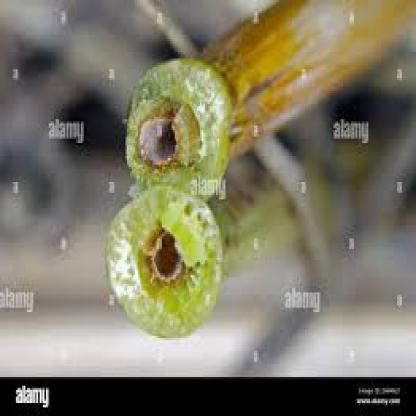sawfly: (104, 186, 233, 336), (122, 51, 236, 211)
